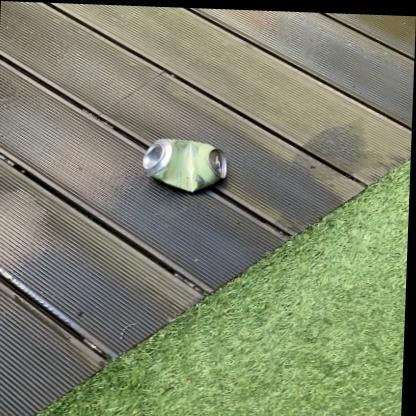trash: (143, 139, 226, 191)
